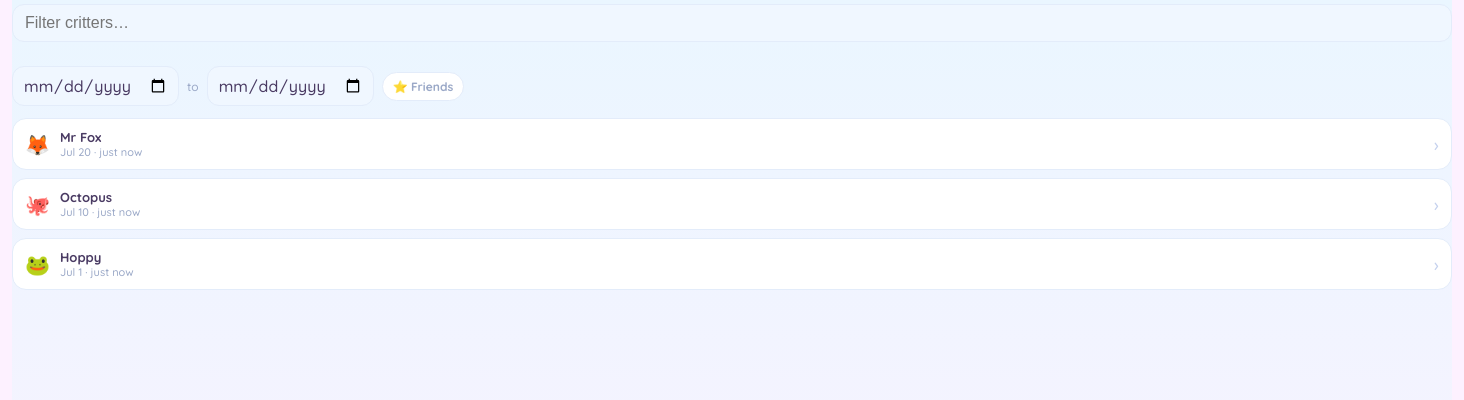
Scenario: text filter › filters by given name, case-insensitively
Step 1. Type "hoppy" into the search field labelled "Filter critters" → (732, 23), box x1=12 y1=4 x2=1452 y2=42
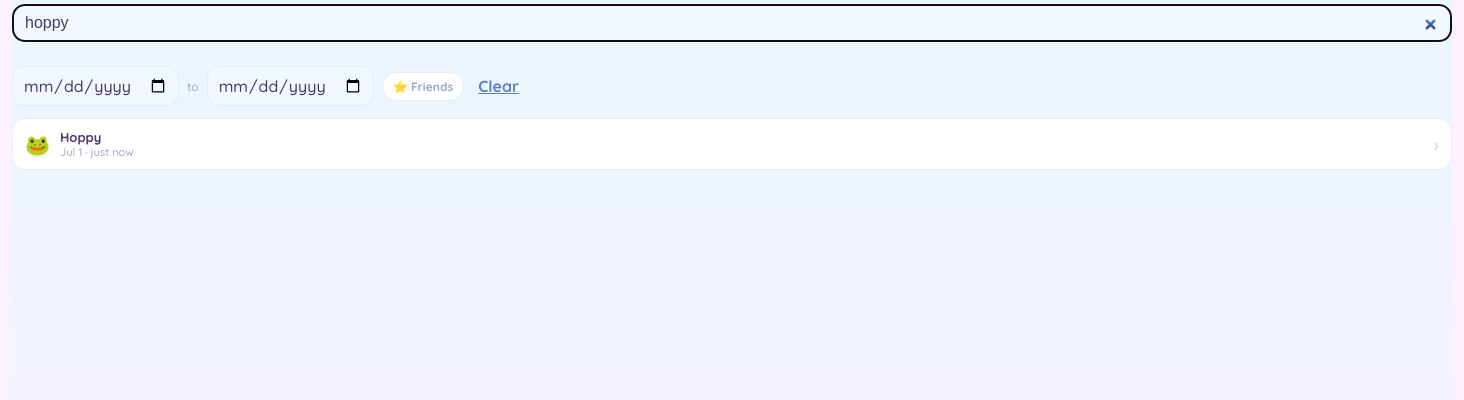
Expected: the text "Hoppy" is shown, x1=60 y1=129 x2=101 y2=145
Expected: the number of list items is 1, x1=12 y1=118 x2=1452 y2=170
